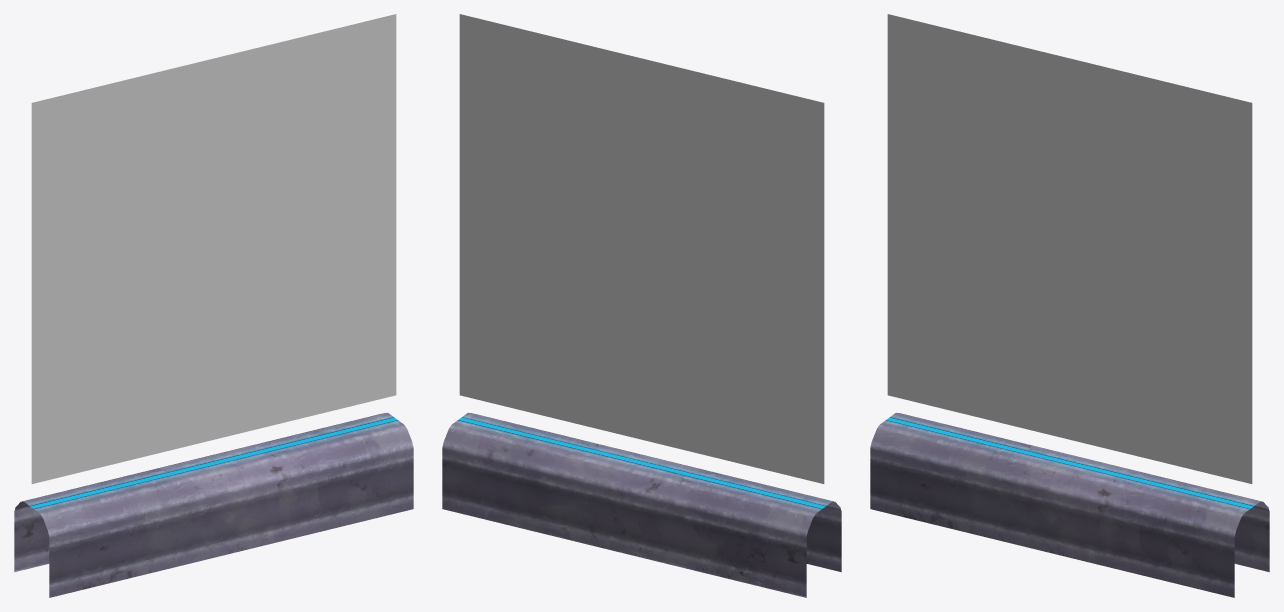
The model's file is SM_Bleachers_Wall.fbx.
The picture shows the model from 3 angles, left to right: view 1: azimuth 30°, elevation 25°; view 2: azimuth 150°, elevation 25°; view 3: azimuth 330°, elevation 25°; orthographic projection.
Parts seen in each view (by area): view 1: SM_Bleachers_Wall; view 2: SM_Bleachers_Wall; view 3: SM_Bleachers_Wall.
Part boxes in pixels (<box>): SM_Bleachers_Wall: <box>14,14,413,597</box>; SM_Bleachers_Wall: <box>442,14,841,597</box>; SM_Bleachers_Wall: <box>870,14,1269,597</box>.
Bounding box in the file's own units: 600 × 759 × 100.
